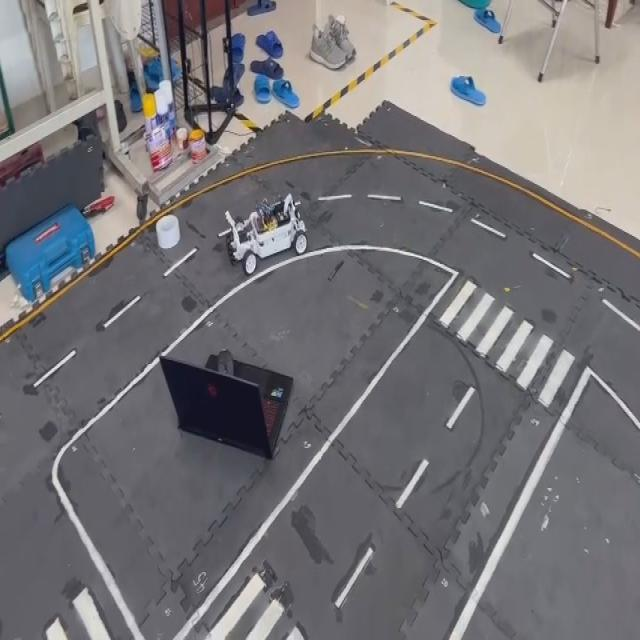SiCo-CAR: (4, 202, 96, 306), (219, 191, 308, 276)
